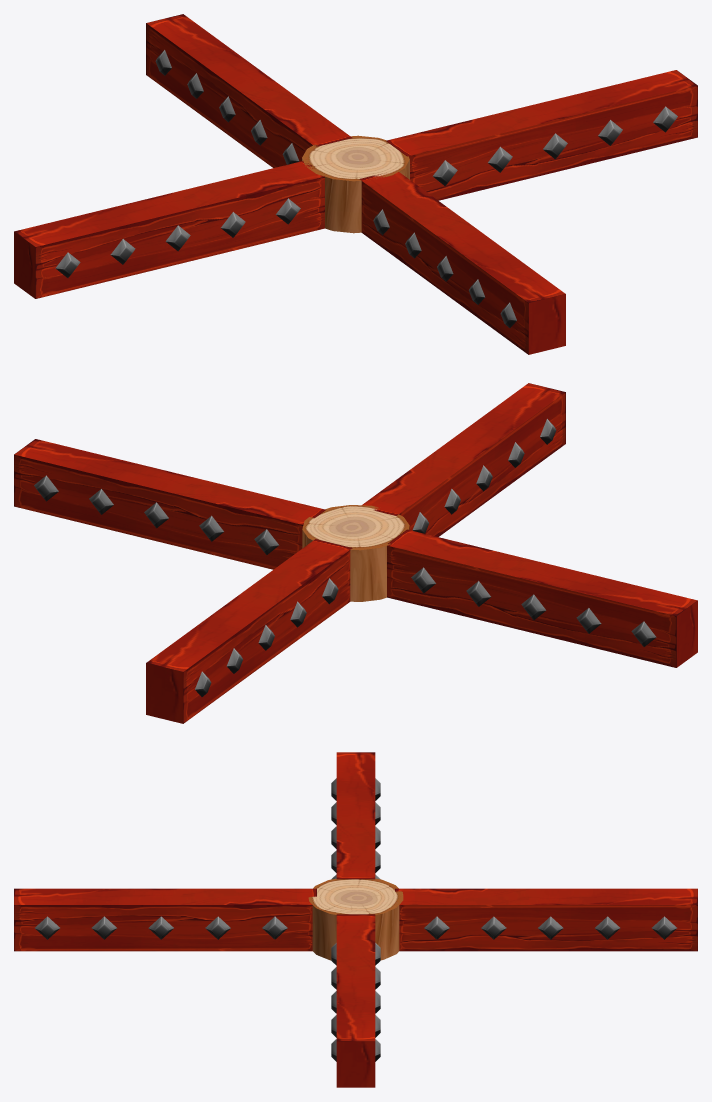
The model's file is four_blade_red_03.fbx.
The picture shows the model from 3 angles, top to bottom: view 1: azimuth 30°, elevation 25°; view 2: azimuth 150°, elevation 25°; view 3: azimuth 270°, elevation 25°; orthographic projection. The views are drawn at different scales.
Visible parts, largest first — view 1: Blade_23, Blade_25, Blade_26, Blade_24, wood_center_7; view 2: Blade_23, Blade_25, Blade_24, Blade_26, wood_center_7; view 3: Blade_26, Blade_24, Blade_25, Blade_23, wood_center_7.
Boxes of the visible parts, left/top/right/bottom form: Blade_23: left=14, top=161, right=324, bottom=298; Blade_25: left=386, top=70, right=697, bottom=200; Blade_26: left=359, top=172, right=565, bottom=354; Blade_24: left=146, top=14, right=352, bottom=167; wood_center_7: left=302, top=135, right=409, bottom=233; Blade_23: left=387, top=529, right=697, bottom=667; Blade_25: left=14, top=439, right=325, bottom=569; Blade_24: left=146, top=539, right=352, bottom=723; Blade_26: left=362, top=383, right=565, bottom=536; wood_center_7: left=302, top=505, right=409, bottom=601; Blade_26: left=14, top=888, right=316, bottom=951; Blade_24: left=395, top=888, right=697, bottom=951; Blade_25: left=331, top=914, right=380, bottom=1087; Blade_23: left=331, top=752, right=380, bottom=879; wood_center_7: left=308, top=878, right=403, bottom=960.
Bounding box in the file's own units: 534 × 40 × 534.
